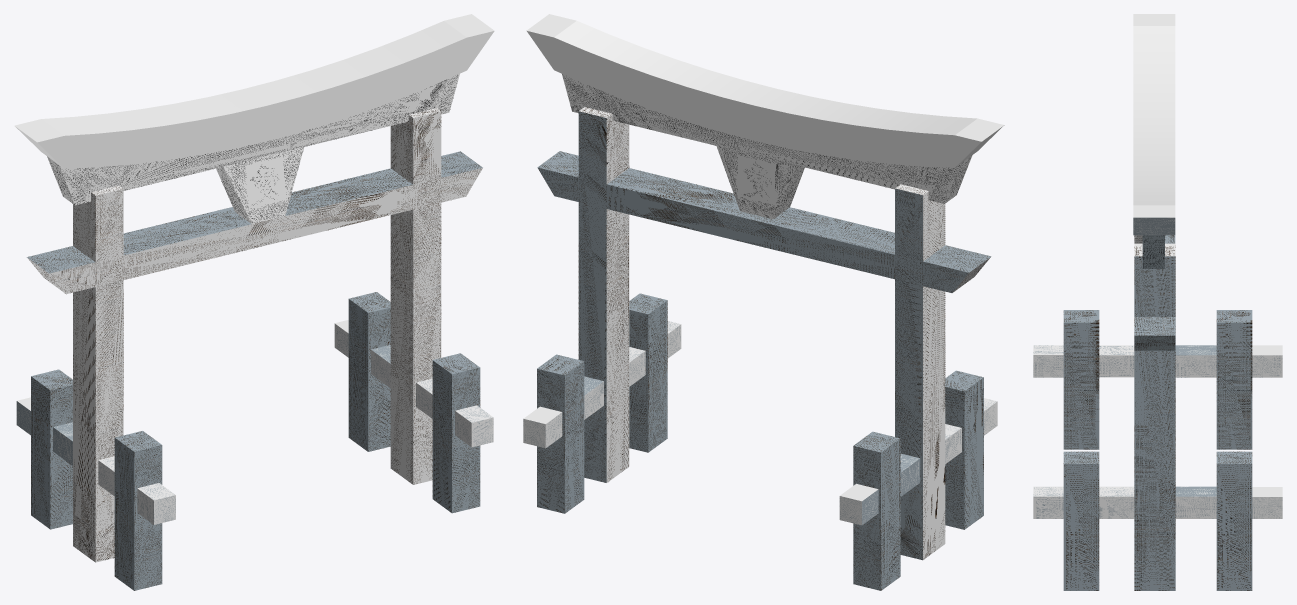
3 views of the same model, side by side, from view 1: azimuth 30°, elevation 25°; view 2: azimuth 150°, elevation 25°; view 3: azimuth 270°, elevation 25° (orthographic). The views are drawn at different scales.
Visible parts, largest first — view 1: Model; view 2: Model; view 3: Model.
Part boxes in pixels (x1,y1,x2,y2): Model: [14, 14, 494, 590]; Model: [523, 14, 1004, 590]; Model: [1033, 14, 1282, 590].
Size of the model in its own units: 313 by 285 by 162.
